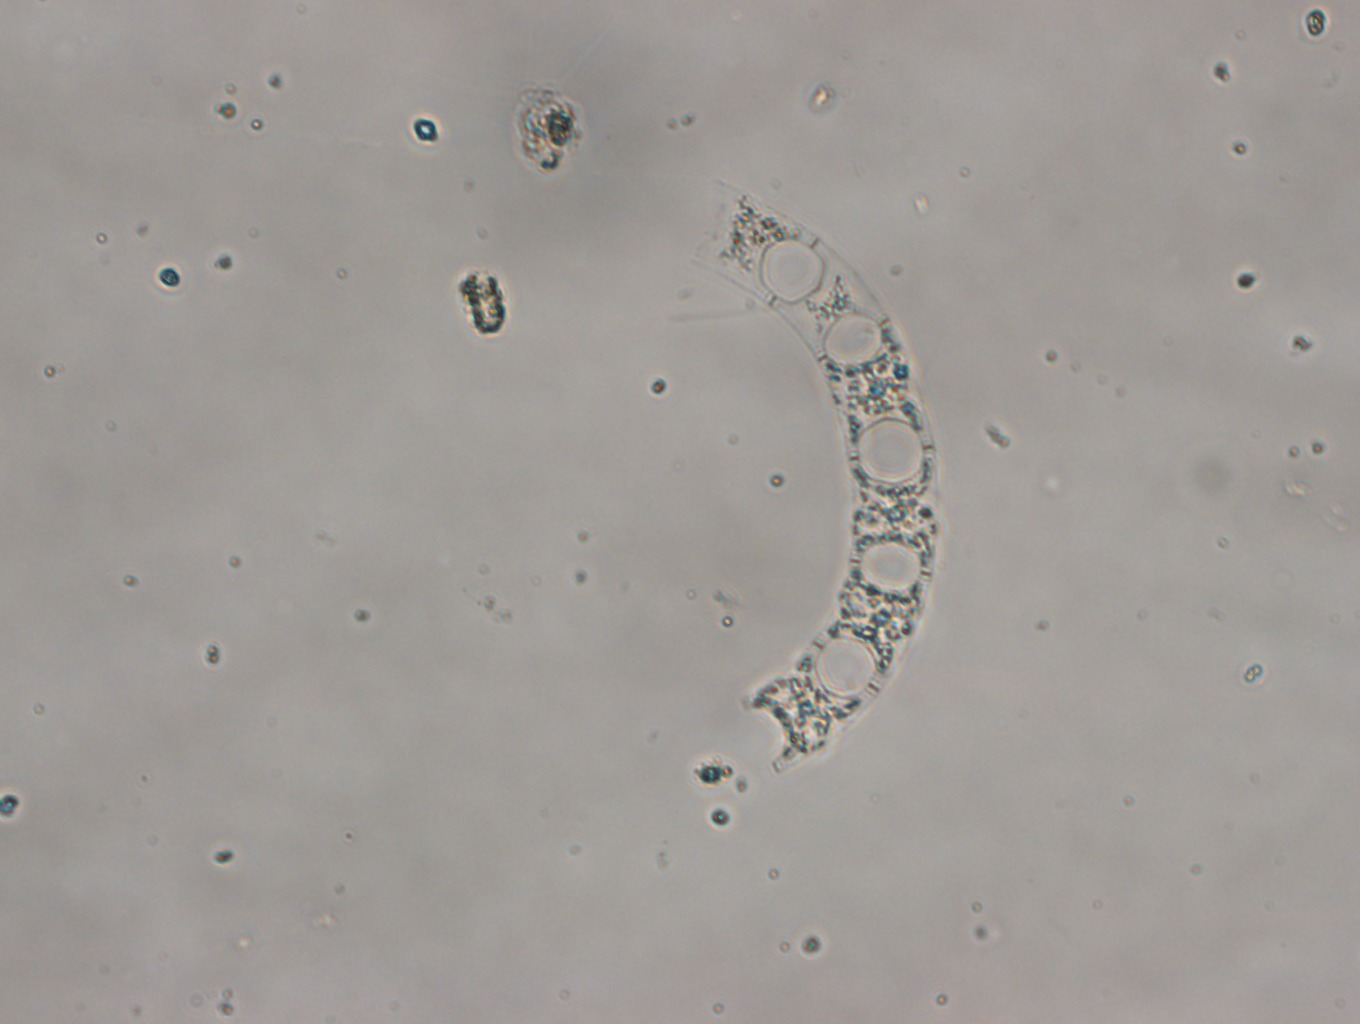eucampia: (691, 182, 944, 777)
